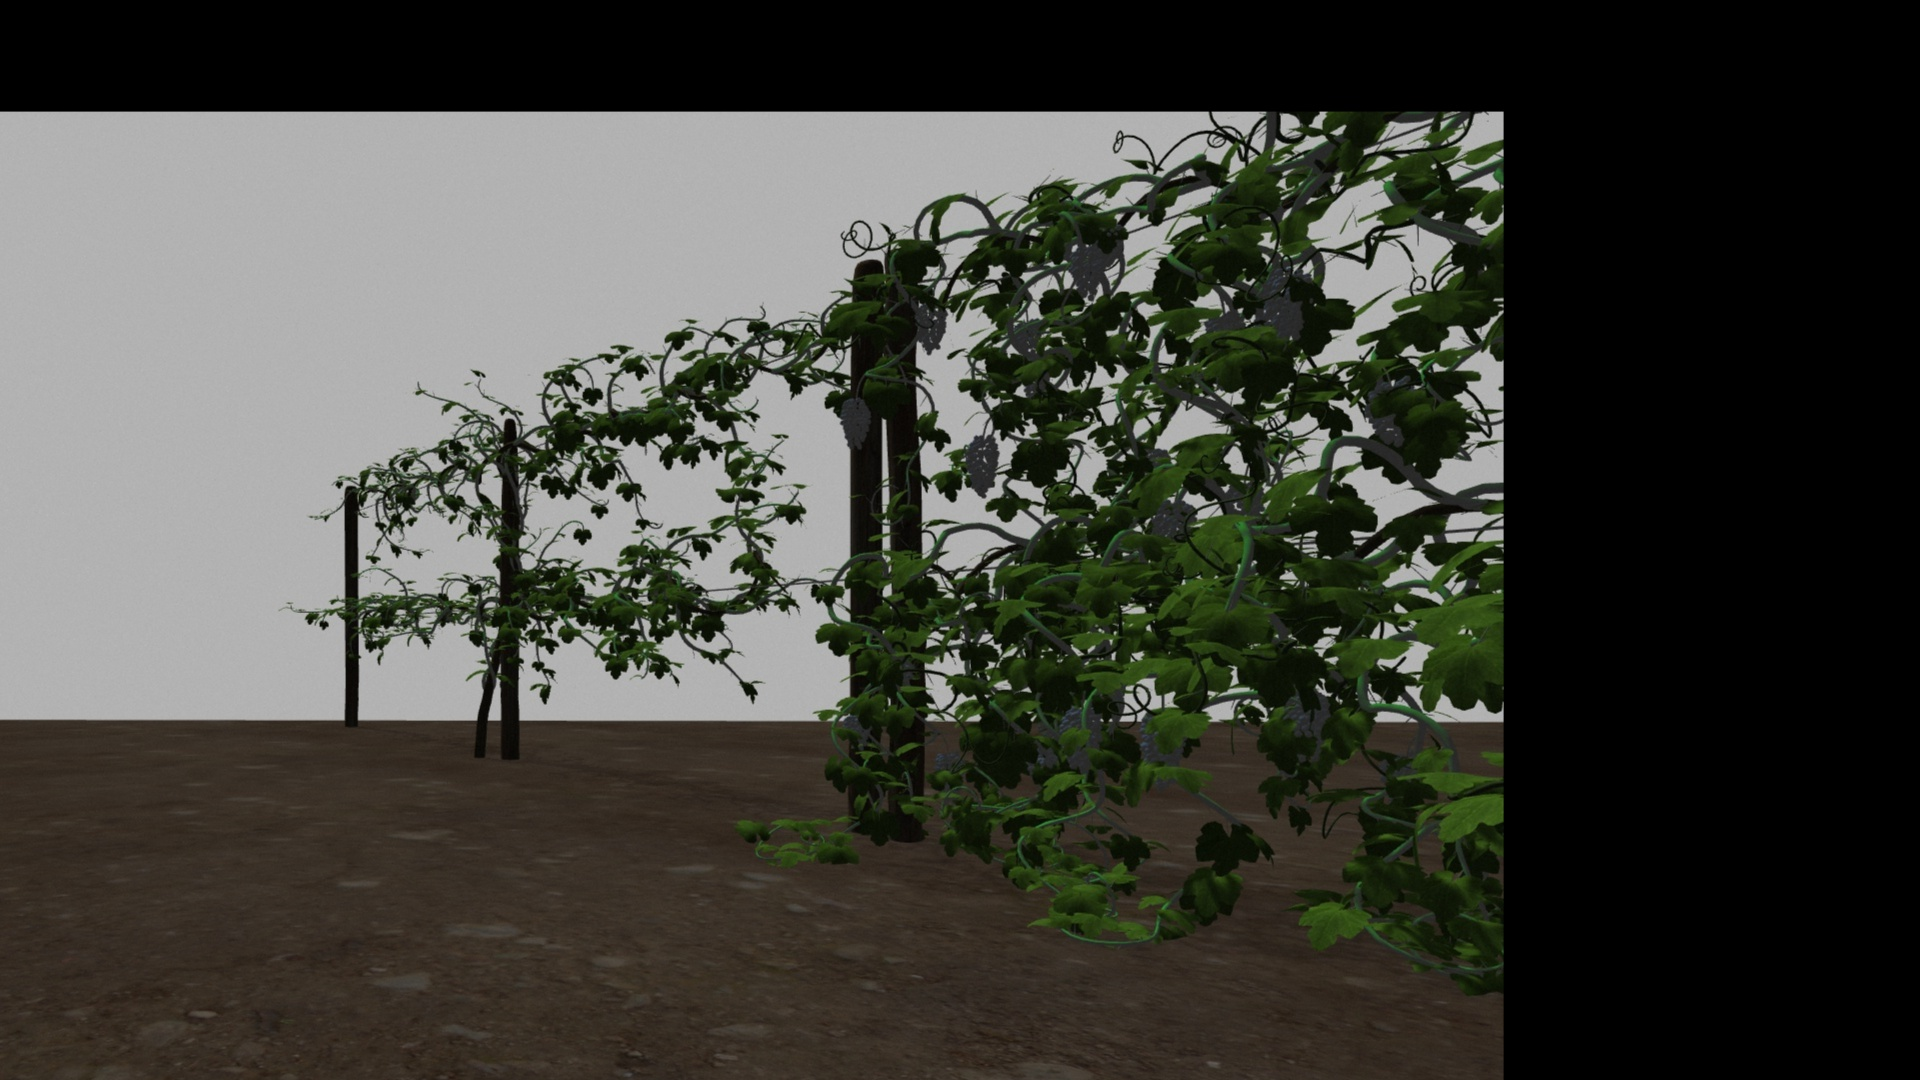grape: (1263, 266, 1308, 343), (1139, 711, 1183, 789), (1284, 694, 1332, 760), (1059, 708, 1101, 771), (961, 435, 1000, 497), (1065, 244, 1106, 301), (911, 298, 949, 355), (1149, 501, 1197, 538), (837, 398, 872, 450)
